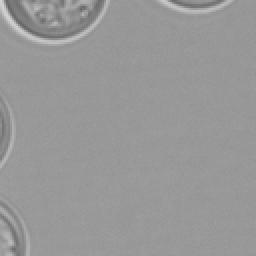picoshell: (0, 92, 14, 168), (156, 0, 232, 12)
